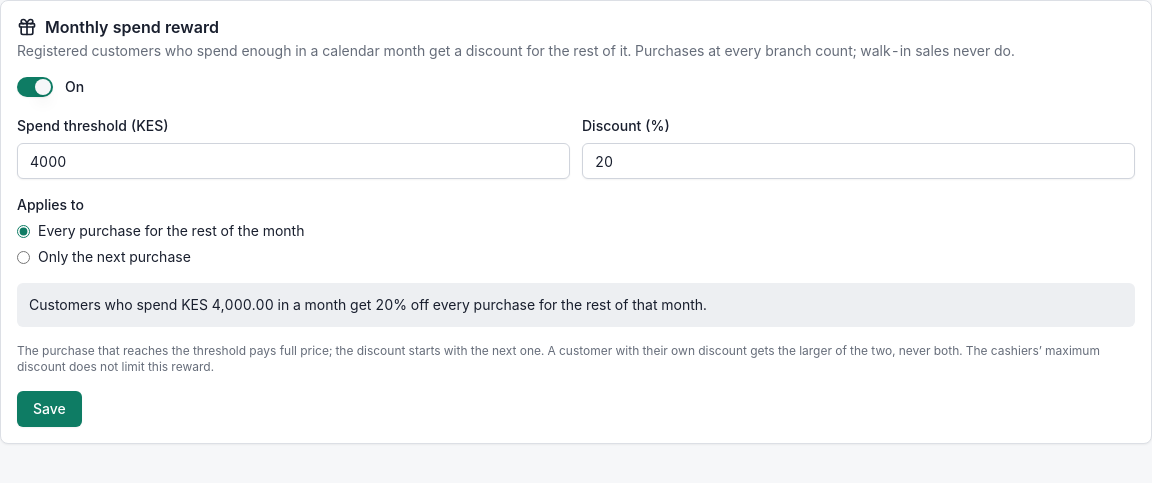
monthly spend reward settings › shows the API’s field message next to the field
Click the button "Save": [49, 409] box x1=17 y1=391 x2=82 y2=427
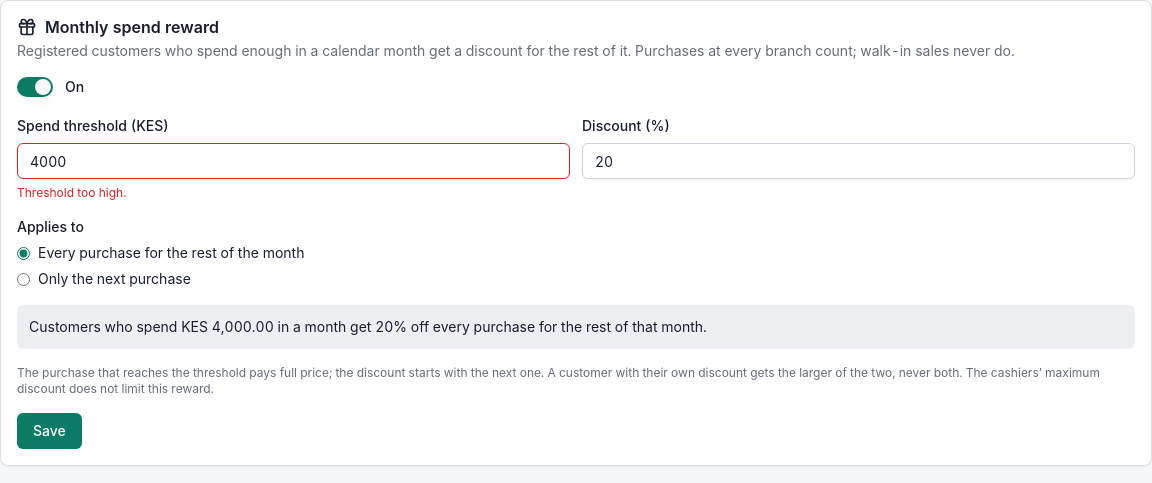
Expected: the text "Threshold too high." is shown, x1=17 y1=185 x2=126 y2=200
